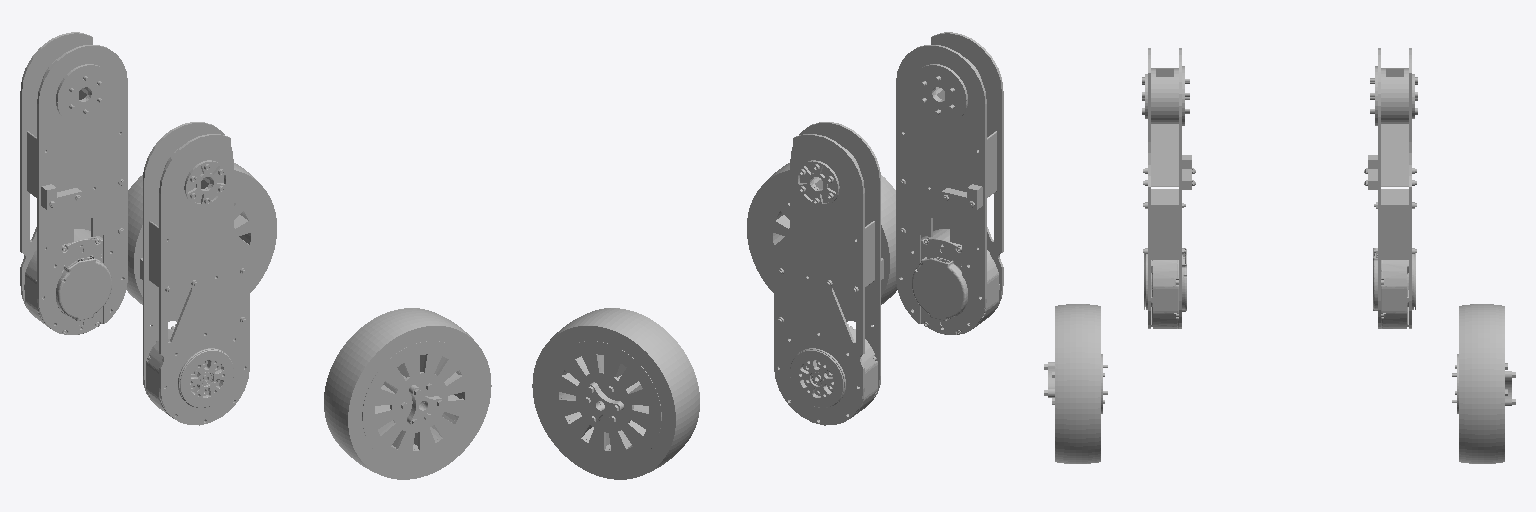
The robot description file, URDF, robot "wbr_v1":
<?xml version="1.0" ?>
<!-- 
轮腿机器人URDF描述 (wbr_v1.urdf)
*** SYH *** 2026.03.27 ***

来自ZZW的轮腿机器人ros包的xacro文件，经过修改以适应Wheel-Legged-Gym仿真环境。

此URDF文件描述了一个轮腿机器人（WBR - 轮腿机器人）版本1。
机器人具有一个基座主体和两条对称的腿，每条腿由以下部分组成：
- 大腿连杆（上腿段）
- 小腿连杆（下腿段） 
- 轮子连杆（每条腿末端的驱动轮）

关键组件：
- base_link：具有惯性属性和简化碰撞盒的主主体
- left/right_thigh_link：具有旋转髋关节的上腿段
- left/right_shank_link：具有旋转膝关节的下腿段
- left/right_wheel_link：具有连续旋转关节的轮子组件

特性：
- 对称的左右腿配置
- 使用STL网格文件进行视觉渲染
- 简化的碰撞几何体（盒子/圆柱体）以提高仿真性能
- 定义关节限制和动力学参数以实现真实行为

此模型设计用于Wheel-Legged-Gym仿真环境中进行强化学习和控制算法开发。
-->

<robot name="wbr_v1">
  <link name="base_link">
    <inertial>
      <origin rpy="0 0 0" xyz="4.4472E-05 0.0001156 0.010416"/>
      <mass value="2.5418"/>
      <inertia ixx="0.015752" ixy="-0.00040242" ixz="9.948E-05" iyy="0.010651" iyz="-0.00036894" izz="0.013679"/>
    </inertial>
    <visual>
      <origin rpy="0 0 0" xyz="0 0 0"/>
      <geometry>
        <mesh filename="../meshes_v1/base_link.STL"/>
      </geometry>
      <material name="">
        <color rgba="0.75294 0.75294 0.75294 1"/>
      </material>
    </visual>
    <collision>
      <origin rpy="0 0 0" xyz="0 0 0"/>
      <geometry>
        <!-- 替换以下原来的mesh，看看能不能提升仿真的速度 -->
        <!-- <mesh filename="../meshes_v1/base_link.STL" /> -->
        <box size="0.18 0.16 0.10"/>
      </geometry>
    </collision>
  </link>

  <link name="left_thigh_link">
    <inertial>
      <origin rpy="0 0 0" xyz="0.15659 0.00032005 0.02025"/>
      <mass value="0.80815"/>
      <inertia ixx="0.00058921" ixy="-6.148E-05" ixz="6.077E-05" iyy="0.0047671" iyz="1.4E-07" izz="0.0051528"/>
    </inertial>
    <visual>
      <origin rpy="0 0 0" xyz="0 0 0"/>
      <geometry>
        <mesh filename="../meshes_v1/left_thigh_link.STL"/>
      </geometry>
      <material name="">
        <color rgba="0.75294 0.75294 0.75294 1"/>
      </material>
    </visual>
    <collision>
      <origin rpy="0 0 0" xyz="0.1 0 0.02"/>
      <geometry>
        <box size="0.2 0.08 0.04"/>
        <!-- <mesh filename="../meshes_v1/left_thigh_link.STL" /> -->
      </geometry>
    </collision>
  </link>

  <link name="left_shank_link">
    <inertial>
      <origin rpy="0 0 0" xyz="0.12156 0.0048719 0.01996"/>
      <mass value="0.93138"/>
      <inertia ixx="0.00092062" ixy="-0.00090165" ixz="2.7E-05" iyy="0.0071235" iyz="7.25E-06" izz="0.0078024"/>
    </inertial>
    <visual>
      <origin rpy="0 0 0" xyz="0 0 0"/>
      <geometry>
        <mesh filename="../meshes_v1/left_shank_link.STL"/>
      </geometry>
      <material name="">
        <color rgba="0.75294 0.75294 0.75294 1"/>
      </material>
    </visual>
    <collision>
      <origin rpy="0 0 0" xyz="0 0 0"/>
      <geometry>
        <mesh filename="../meshes_v1/left_shank_link.STL"/>
      </geometry>
    </collision>
  </link>

  <link name="right_thigh_link">
    <inertial>
      <origin rpy="3.141590 0 0" xyz="0.15659 0.00019029 0.02025"/>
      <mass value="0.80815"/>
      <inertia ixx="0.00058927" ixy="-6.416E-05" ixz="-6.077E-05" iyy="0.0047671" iyz="-1.5E-06" izz="0.0051529"/>
    </inertial>
    <visual>
      <origin rpy="3.141590 0 0" xyz="0 0 0"/>
      <geometry>
        <mesh filename="../meshes_v1/right_thigh_link.STL"/>
      </geometry>
      <material name="">
        <color rgba="0.75294 0.75294 0.75294 1"/>
      </material>
    </visual>
    <collision>
      <origin rpy="0 0 0" xyz="0.1 0 0.02"/>
      <geometry>
        <box size="0.2 0.08 0.04"/>
        <!-- <mesh filename="../meshes_v1/left_thigh_link.STL" /> -->
      </geometry>
      <!-- <origin
        xyz="0 0 0"
        rpy="0 0 0" />
      <geometry>        
        <mesh
          filename="../meshes_v1/right_thigh_link.STL" />
      </geometry> -->
    </collision>
  </link>

  <link name="right_shank_link">
    <inertial>
      <origin rpy="3.141590 0 0" xyz="0.12114 0.0051863 0.020146"/>
      <mass value="0.92691"/>
      <inertia ixx="0.00090882" ixy="-0.00088222" ixz="-3.749E-05" iyy="0.0070874" iyz="-1E-06" izz="0.0077607"/>
    </inertial>
    <visual>
      <origin rpy="3.141590 0 0" xyz="0 0 0"/>
      <geometry>
        <mesh filename="../meshes_v1/right_shank_link.STL"/>
      </geometry>
      <material name="">
        <color rgba="0.75294 0.75294 0.75294 1"/>
      </material>
    </visual>
    <collision>
      <origin rpy="3.141590 0 0" xyz="0 0 0"/>
      <geometry>
        <mesh filename="../meshes_v1/right_shank_link.STL"/>
      </geometry>
    </collision>
  </link>

  <link name="left_wheel_link">
    <inertial>
      <origin rpy="0 0 0" xyz="0 0 0.025381"/>
      <mass value="0.55336"/>
      <inertia ixx="0.0010902" ixy="0" ixz="0" iyy="0.0010902" iyz="0" izz="0.0019745"/>
    </inertial>
    <visual>
      <origin rpy="0 0 0" xyz="0 0 0"/>
      <geometry>
        <mesh filename="../meshes_v1/left_wheel_link.STL"/>
      </geometry>
      <material name="">
        <color rgba="0.75294 0.75294 0.75294 1"/>
      </material>
    </visual>
    <collision>
      <origin rpy="0 0 0" xyz="0 0 0.027"/>
      <geometry>
        <cylinder length="0.048" radius="0.08"/>
        <!-- <mesh
          filename="../meshes_v1/left_wheel_link.STL" /> -->
      </geometry>
    </collision>
  </link>

  <link name="right_wheel_link">
    <inertial>
      <origin rpy="3.141590 0 0" xyz="0 0 0.025381"/>
      <mass value="0.55336"/>
      <inertia ixx="0.0010902" ixy="0" ixz="0" iyy="0.0010902" iyz="0" izz="0.0019745"/>
    </inertial>
    <visual>
      <origin rpy="3.141590 0 0" xyz="0 0 0"/>
      <geometry>
        <mesh filename="../meshes_v1/right_wheel_link.STL"/>
      </geometry>
      <material name="">
        <color rgba="0.75294 0.75294 0.75294 1"/>
      </material>
    </visual>
    <collision>
      <origin rpy="0 0 0" xyz="0 0 0.027"/>
      <geometry>
        <cylinder length="0.048" radius="0.08"/>
        <!-- <mesh
          filename="../meshes_v1/right_thigh_link.STL" /> -->
      </geometry>
    </collision>
  </link>

  <!-- 调用机器人连杆 -->
  <joint name="left_hip_joint" type="revolute">
    <origin rpy="-1.570796327 1.570796327 0" xyz="0 0.0936 0"/>
    <parent link="base_link"/>
    <child link="left_thigh_link"/>
    <axis xyz="0 0 1"/>
    <limit effort="23.7" lower="-1.5708" upper="1.5708" velocity="30.0"/>
  </joint>
  <joint name="left_knee_joint" type="revolute">
    <origin rpy="0 0 0" xyz="0.2 0 0.0403"/>
    <parent link="left_thigh_link"/>
    <child link="left_shank_link"/>
    <axis xyz="0 0 1"/>
    <limit effort="23.7" lower="-2.7053" upper="-0.1" velocity="30.0"/>
  </joint>
  <joint name="left_wheel_joint" type="revolute">
    <origin rpy="0 0 0" xyz="0.18 0 0.0403"/>
    <parent link="left_shank_link"/>
    <child link="left_wheel_link"/>
    <limit effort="23.7" velocity="30.0"/>
    <axis xyz="0 0 1"/>
  </joint>
  <joint name="right_hip_joint" type="revolute">
    <origin rpy="1.570796327 1.570796327 0" xyz="0 -0.0936 0"/>
    <parent link="base_link"/>
    <child link="right_thigh_link"/>
    <axis xyz="0 0 1"/>
    <limit effort="23.7" lower="-1.5708" upper="1.5708" velocity="30.0"/>
  </joint>
  <joint name="right_knee_joint" type="revolute">
    <origin rpy="0 0 0" xyz="0.2 0 0.0403"/>
    <parent link="right_thigh_link"/>
    <child link="right_shank_link"/>
    <axis xyz="0 0 1"/>
    <limit effort="23.7" lower="0.1" upper="2.7053" velocity="30.0"/>
  </joint>
  <joint name="right_wheel_joint" type="revolute">
    <origin rpy="0 0 0" xyz="0.18 0 0.0403"/>
    <parent link="right_shank_link"/>
    <child link="right_wheel_link"/>
    <limit effort="23.7" velocity="30.0"/>
    <axis xyz="0 0 1"/>
  </joint>
</robot>

--- Facts derived from the render (not from the file) ---
Views: 3 orthographic renders of the robot side by side, from view 1: azimuth 30°, elevation 25°; view 2: azimuth 150°, elevation 25°; view 3: azimuth 270°, elevation 25°.
Robot: wbr_v1 — 7 links, 6 joints (6 revolute); root link base_link; default pose: all joints at 0 but 2 set to mid-range because 0 is outside their limits (left_knee_joint = -1.4, right_knee_joint = 1.4).
Visible links, largest first — view 1: left_thigh_link, right_thigh_link, right_wheel_link, left_wheel_link; view 2: right_thigh_link, left_thigh_link, left_wheel_link, right_wheel_link; view 3: left_thigh_link, right_thigh_link, right_wheel_link, left_wheel_link.
Boxes of the visible links, x1,y1,x2,y2 form: left_thigh_link: (20, 32, 127, 334); right_thigh_link: (140, 122, 249, 425); right_wheel_link: (324, 308, 491, 479); left_wheel_link: (126, 163, 276, 321); right_thigh_link: (896, 32, 1003, 334); left_thigh_link: (774, 122, 883, 425); left_wheel_link: (532, 308, 699, 479); right_wheel_link: (747, 163, 897, 321); left_thigh_link: (1364, 48, 1417, 328); right_thigh_link: (1142, 48, 1195, 328); right_wheel_link: (1044, 304, 1107, 463); left_wheel_link: (1452, 304, 1515, 463).
Size in the robot's own frame: 0.3044 by 0.4642 by 0.3568 metres.
4 mesh visuals loaded from 7 distinct referenced files (4 binary STL); not drawn: 3 (reference not matched to a file when rendering).
